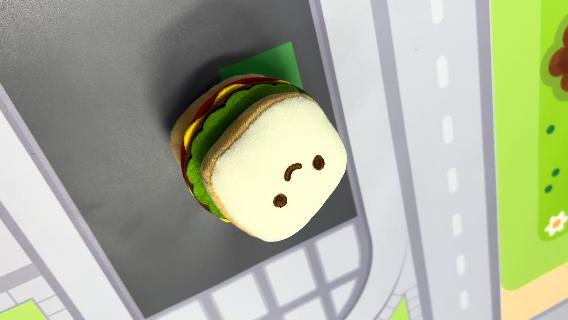sandwich: (168, 71, 350, 243)
